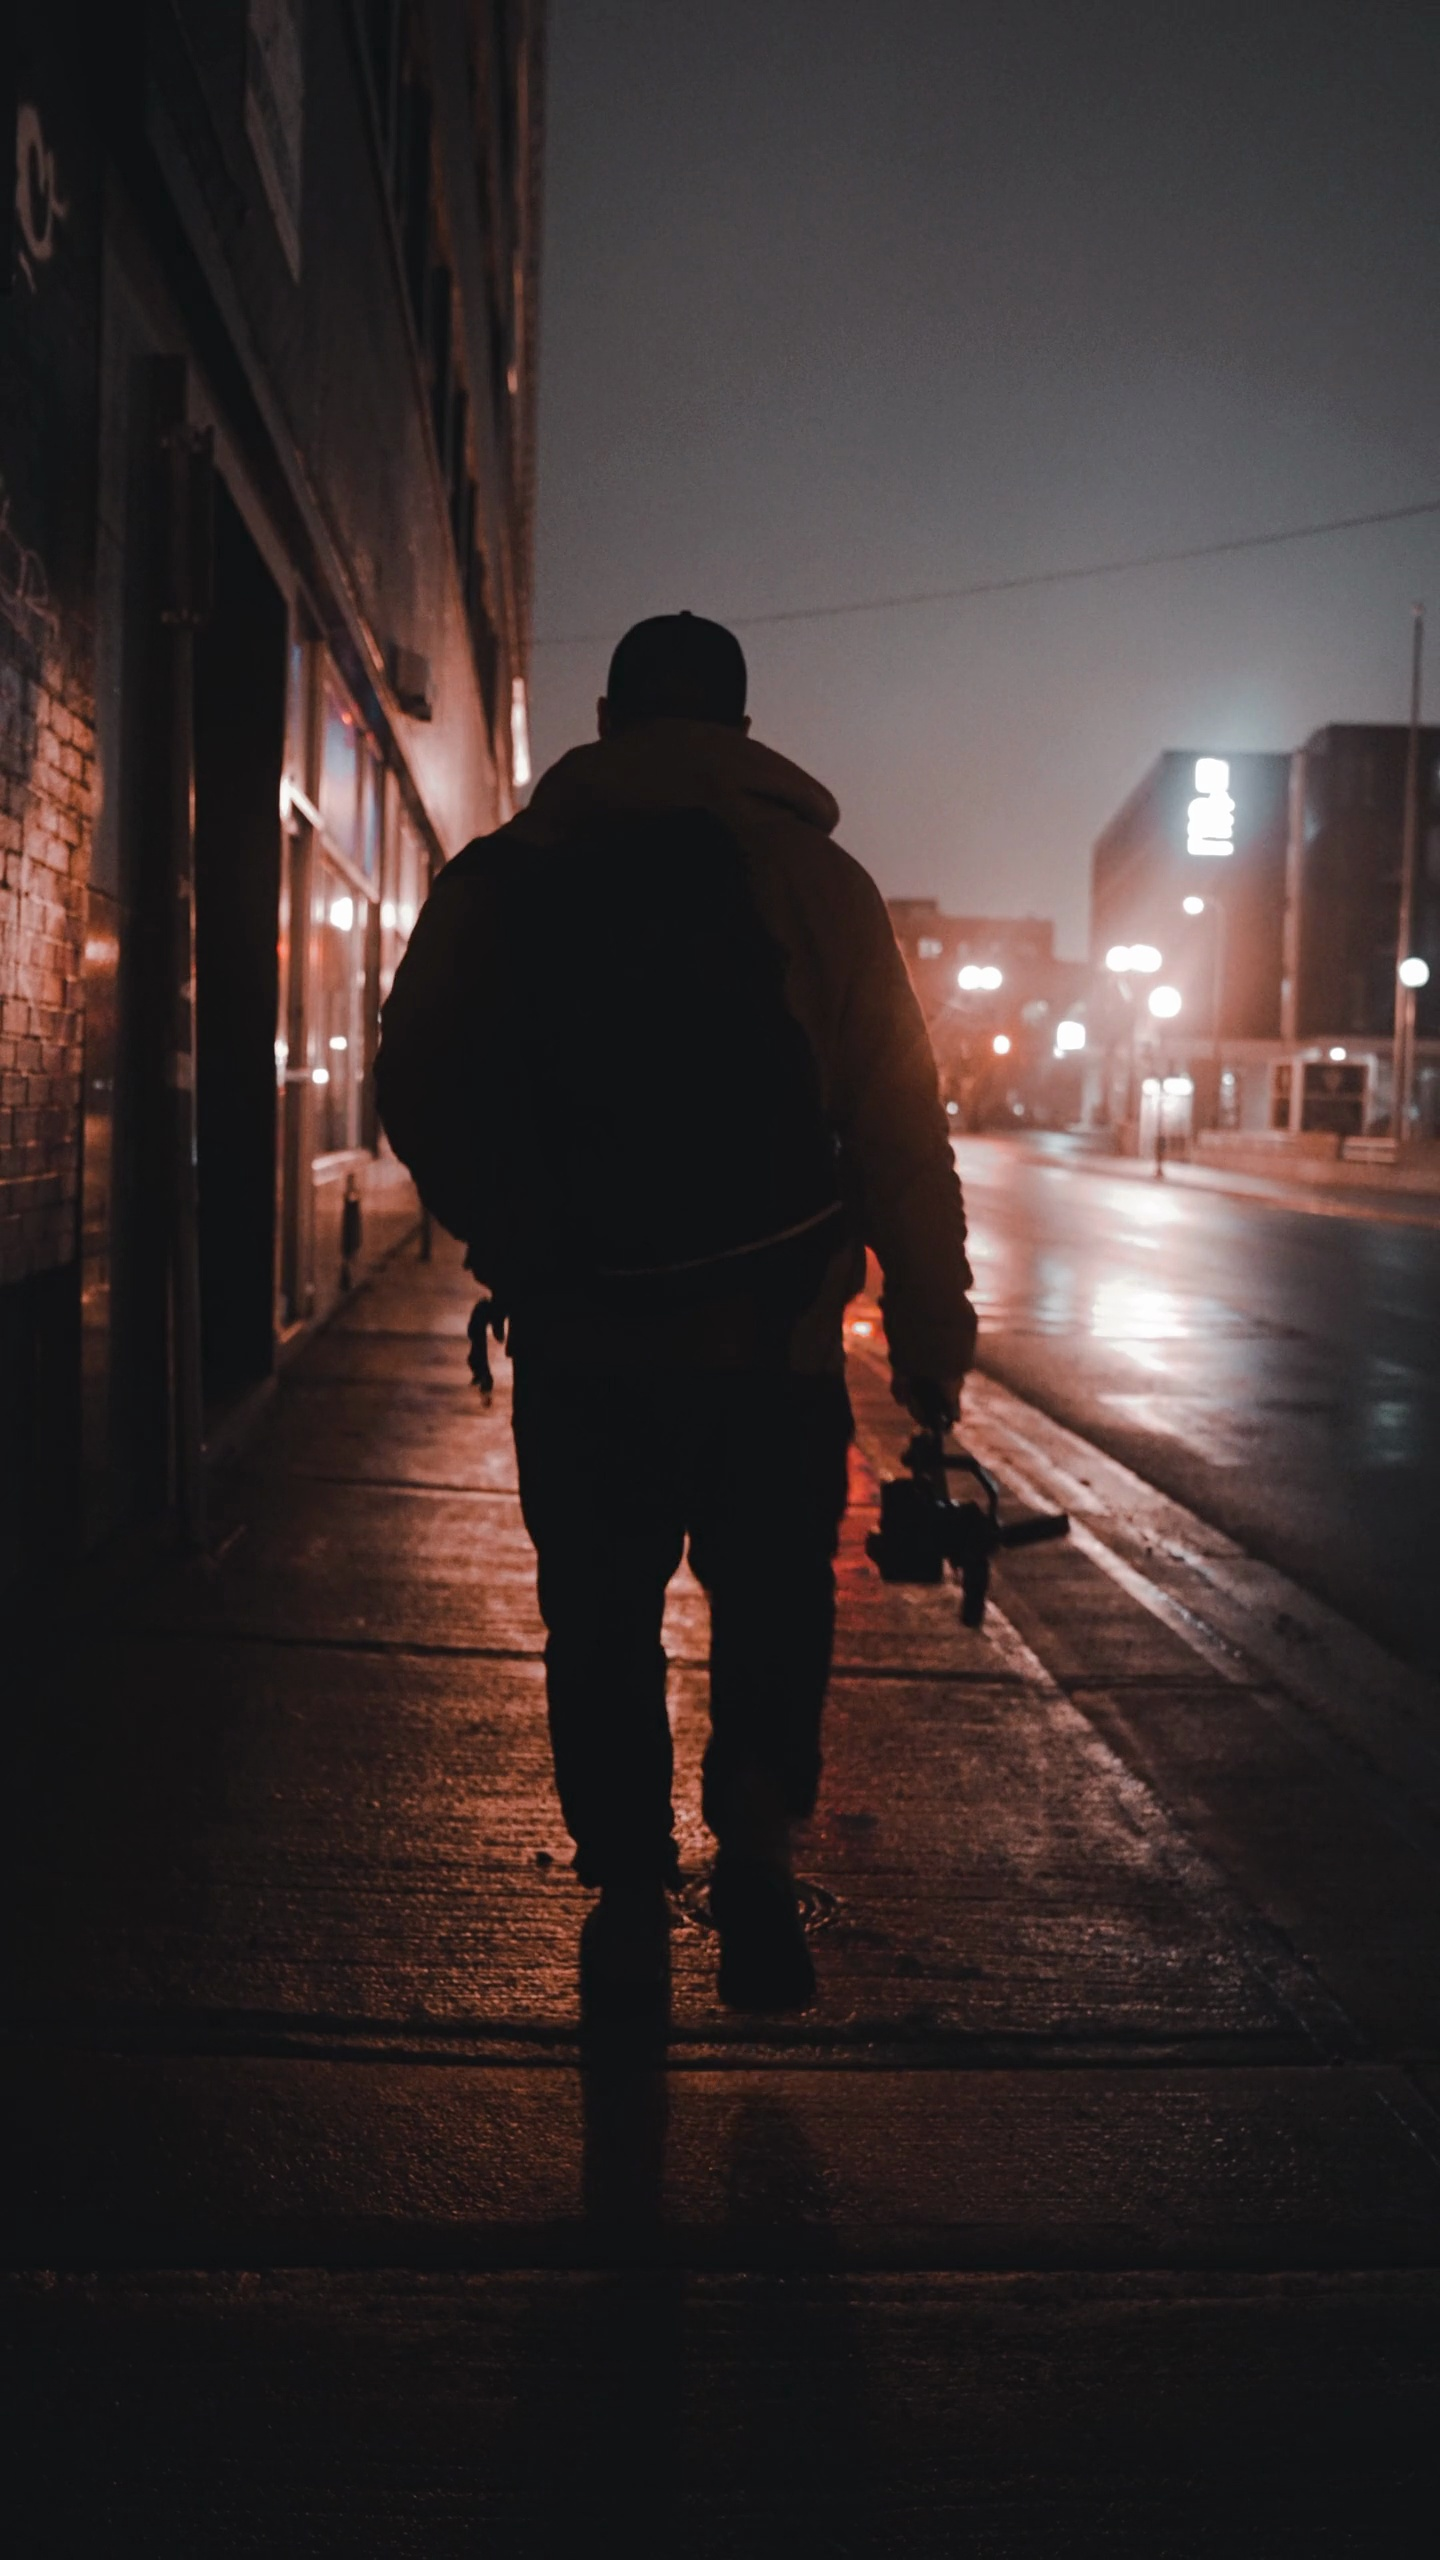person: (382, 607, 992, 1942)
